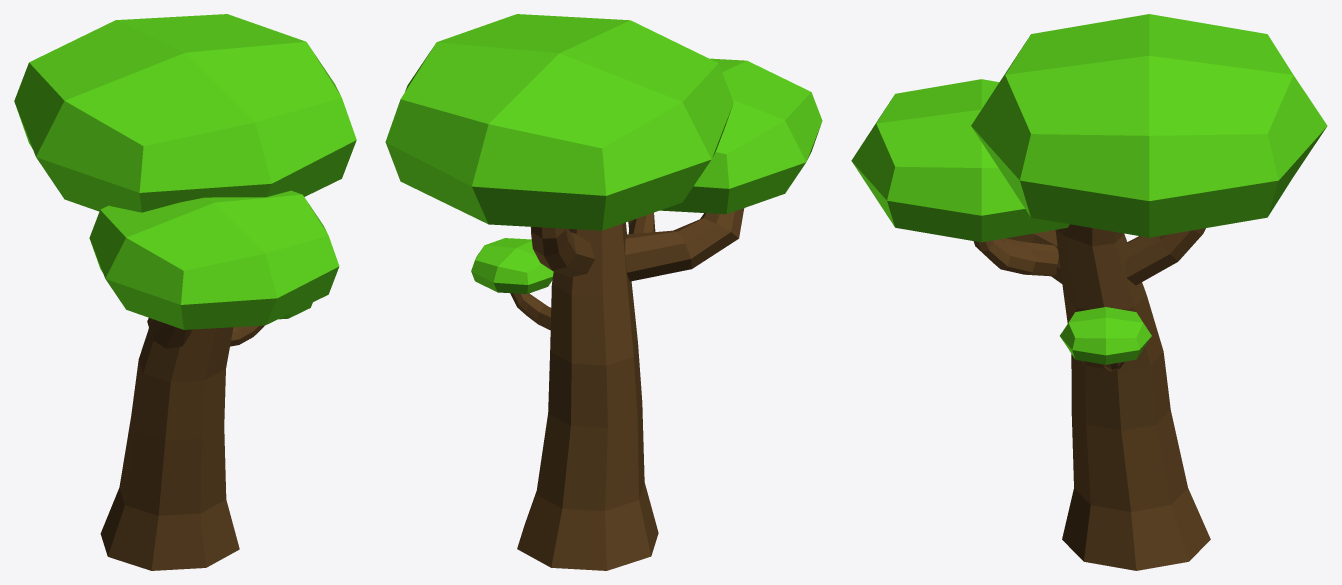
Rendered from boom 2.fbx.
3 views of the same model, side by side, from view 1: azimuth 30°, elevation 25°; view 2: azimuth 150°, elevation 25°; view 3: azimuth 270°, elevation 25° (orthographic). The views are drawn at different scales.
Parts seen in each view (by area): view 1: boom2; view 2: boom2; view 3: boom2.
Boxes of the visible parts, box(x1,y1,x2,y2) form: boom2: box(14, 14, 356, 570); boom2: box(385, 14, 822, 570); boom2: box(851, 14, 1327, 570).
Bounding box in the file's own units: 2.98 × 4.38 × 3.82.
